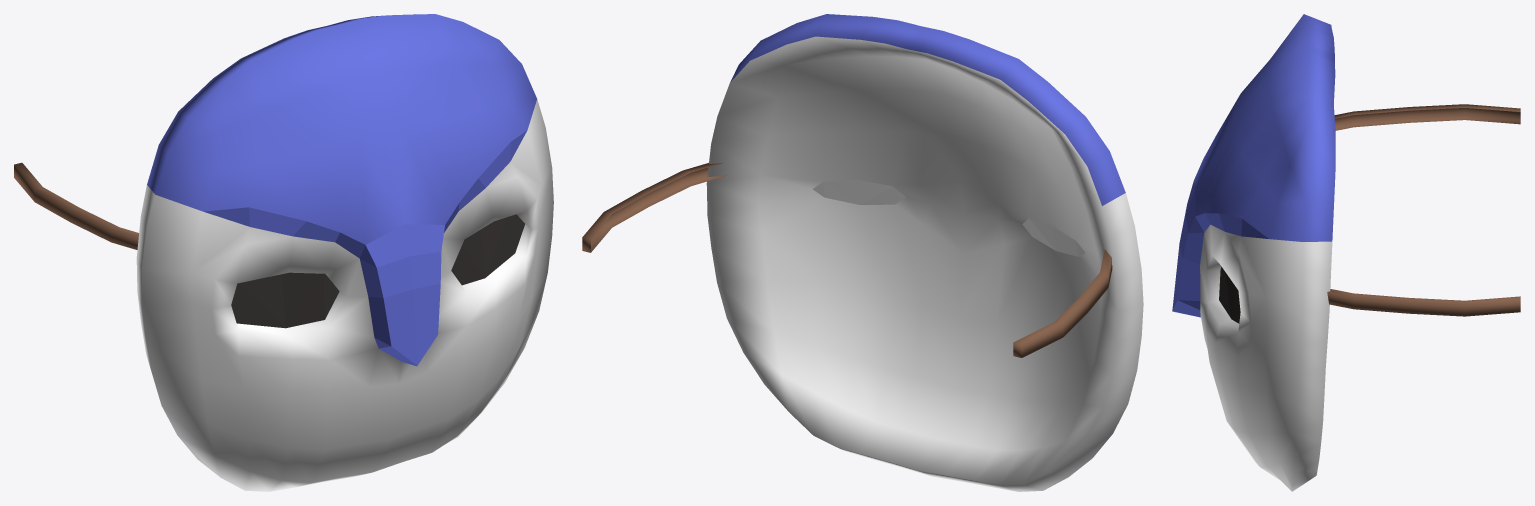
The model's file is player2mask.fbx.
3 renders of one model, left to right at view 1: azimuth 30°, elevation 25°; view 2: azimuth 150°, elevation 25°; view 3: azimuth 270°, elevation 25°, orthographic. The views are drawn at different scales.
Parts seen in each view (by area): view 1: ghostmask.001; view 2: ghostmask.001; view 3: ghostmask.001.
Boxes of the visible parts, x1,y1,x2,y2 form: ghostmask.001: (14, 14, 553, 491); ghostmask.001: (582, 14, 1143, 491); ghostmask.001: (1172, 14, 1520, 491).
Size of the model in its own units: 32.24 by 30.8 by 23.71.
